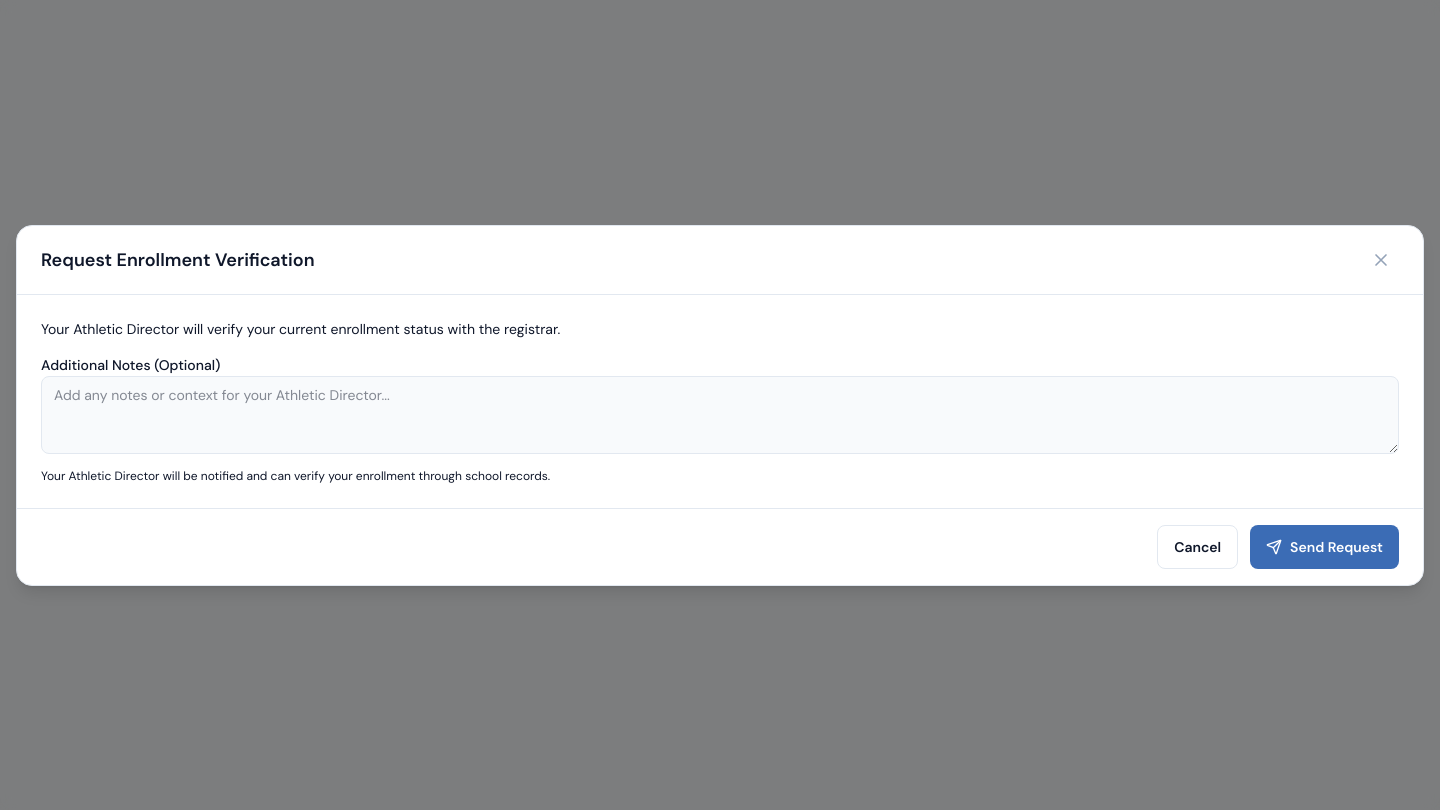
VerificationRequestModal › shows success state after successful submission
This screenshot has width=1440, height=810.
Click the button "Send Request" at (1325, 546), box [1250,524,1399,568]
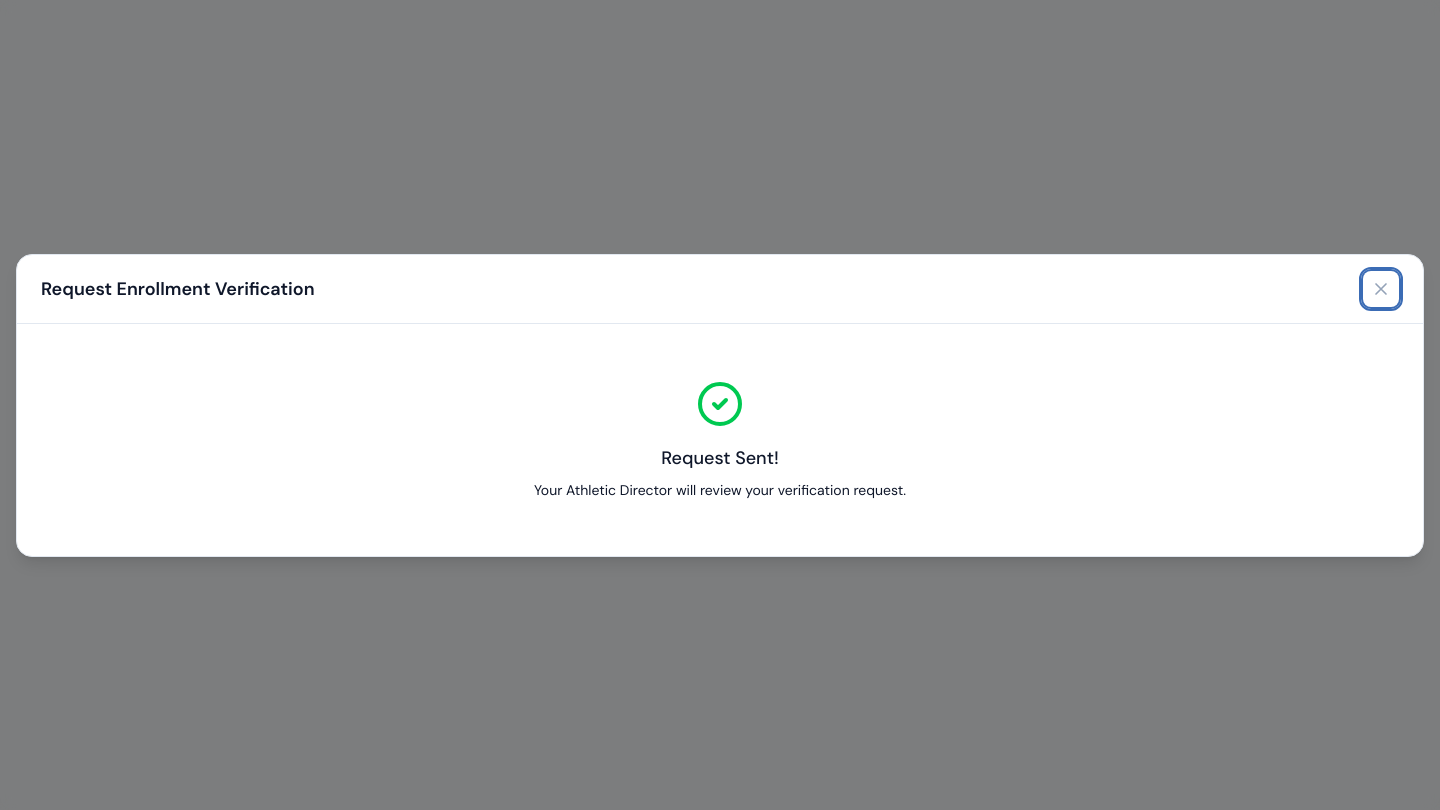
Now the text "Request Sent!" is shown, box [661,444,779,472]
